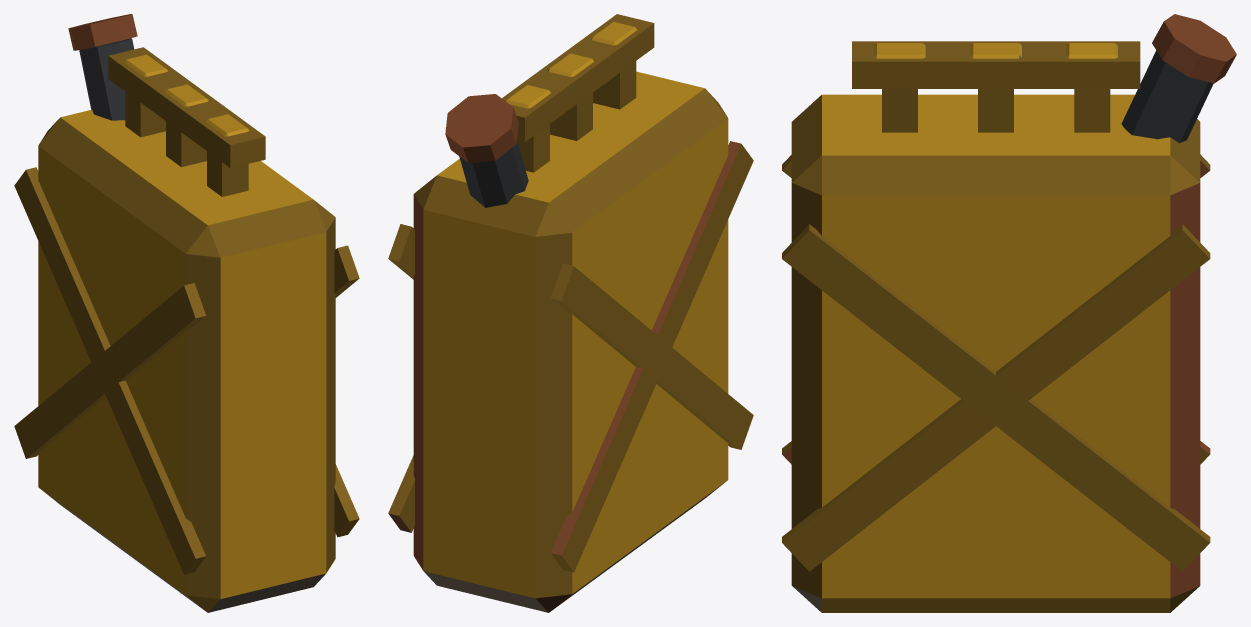
The model's file is fuel_canister.glb.
3 renders of one model, left to right at view 1: azimuth 30°, elevation 25°; view 2: azimuth 150°, elevation 25°; view 3: azimuth 270°, elevation 25°, orthographic. The views are drawn at different scales.
Parts seen in each view (by area): view 1: canister; view 2: canister; view 3: canister.
Boxes of the visible parts, box(x1,y1,x2,y2) form: canister: box(14, 14, 359, 612); canister: box(388, 14, 753, 612); canister: box(782, 14, 1236, 612).
Size of the model in its own units: 0.186 by 0.5152 by 0.3786.
